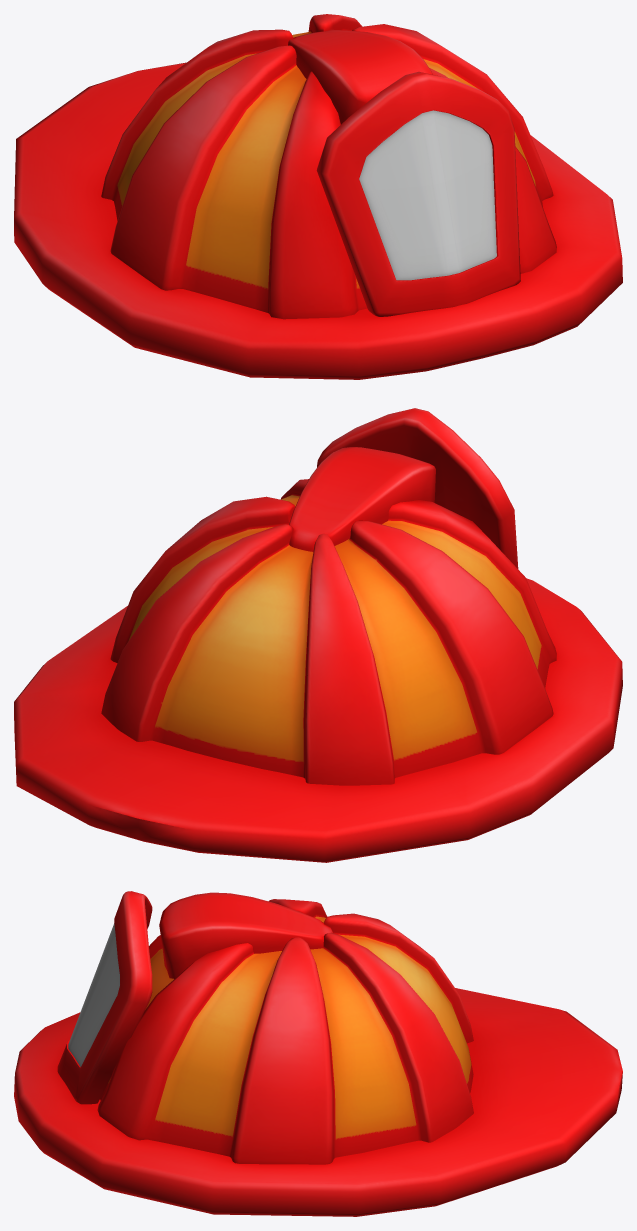
Rendered from Fireman_Hat.glb.
The picture shows the model from 3 angles, top to bottom: view 1: azimuth 30°, elevation 25°; view 2: azimuth 150°, elevation 25°; view 3: azimuth 270°, elevation 25°; orthographic projection. The views are drawn at different scales.
Parts seen in each view (by area): view 1: Fireman_Hat; view 2: Fireman_Hat; view 3: Fireman_Hat.
Boxes of the visible parts, x1=… form: Fireman_Hat: x1=14, y1=14, x2=622, y2=379; Fireman_Hat: x1=14, y1=408, x2=622, y2=862; Fireman_Hat: x1=14, y1=891, x2=622, y2=1216.
Size of the model in its own units: 0.5957 by 0.2908 by 0.7298.
1 material, 1 textured.
